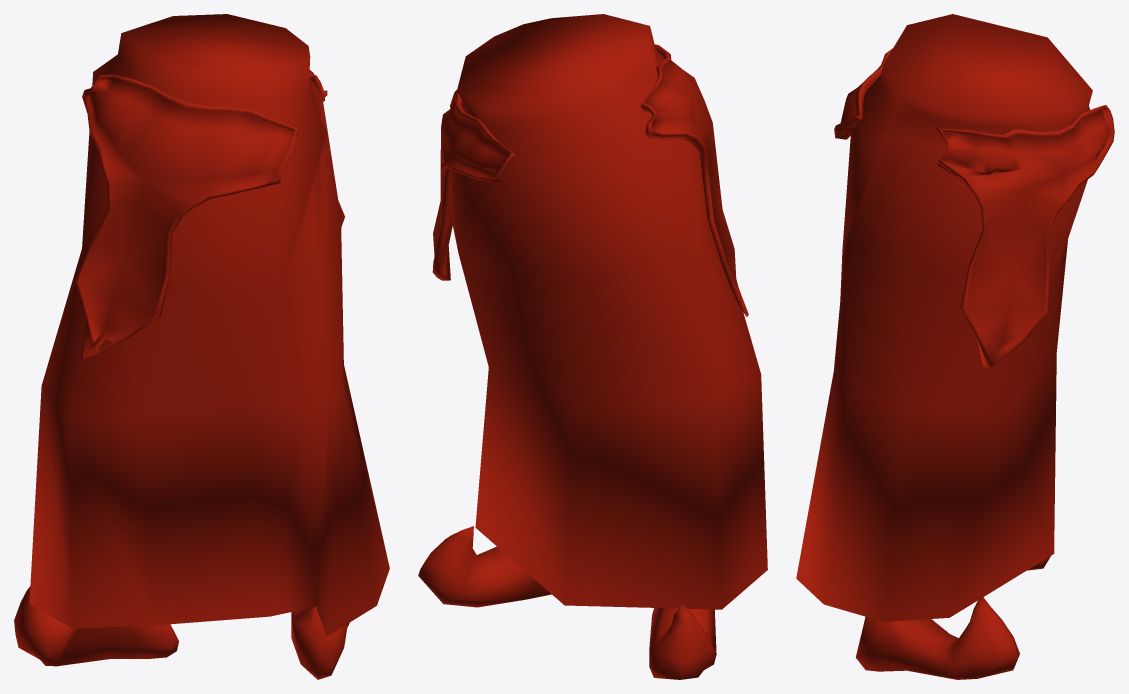
The model's file is bot_000051.obj.
3 renders of one model, left to right at view 1: azimuth 30°, elevation 25°; view 2: azimuth 150°, elevation 25°; view 3: azimuth 270°, elevation 25°, orthographic. The views are drawn at different scales.
Parts seen in each view (by area): view 1: LowPoly_Warlock.004_Plane.004; view 2: LowPoly_Warlock.004_Plane.004; view 3: LowPoly_Warlock.004_Plane.004.
Part boxes in pixels (x1,y1,x2,y2): LowPoly_Warlock.004_Plane.004: [14, 14, 389, 679]; LowPoly_Warlock.004_Plane.004: [418, 14, 767, 679]; LowPoly_Warlock.004_Plane.004: [796, 14, 1114, 679].
Size of the model in its own units: 0.6042 by 1.14 by 0.552.
